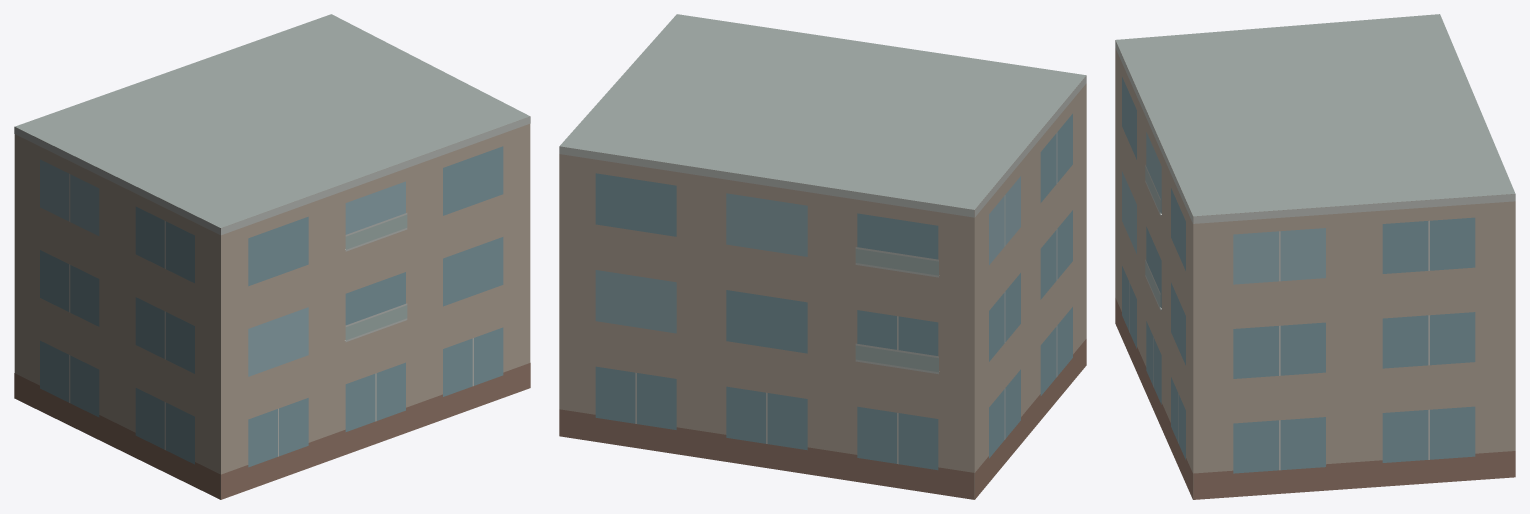
File: survey-upis-32696241.glb
3 views of the same model, side by side, from view 1: azimuth 30°, elevation 25°; view 2: azimuth 150°, elevation 25°; view 3: azimuth 270°, elevation 25° (orthographic). The views are drawn at different scales.
Parts seen in each view (by area): view 1: survey-upis-32696241.tmp; view 2: survey-upis-32696241.tmp; view 3: survey-upis-32696241.tmp.
Part boxes in pixels (left/top/right/bottom): survey-upis-32696241.tmp: left=14, top=14, right=530, bottom=499; survey-upis-32696241.tmp: left=559, top=14, right=1086, bottom=499; survey-upis-32696241.tmp: left=1115, top=14, right=1515, bottom=499.
Bounding box in the file's own units: 14.02 × 9.15 × 11.72.
